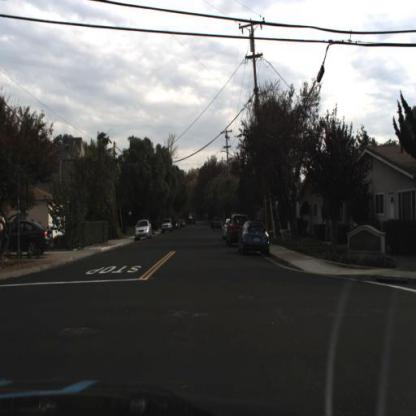car: (1, 217, 56, 256), (235, 219, 276, 261), (241, 220, 271, 257), (228, 212, 248, 244), (227, 212, 241, 248), (135, 217, 154, 243), (159, 215, 175, 236), (161, 215, 176, 234)
